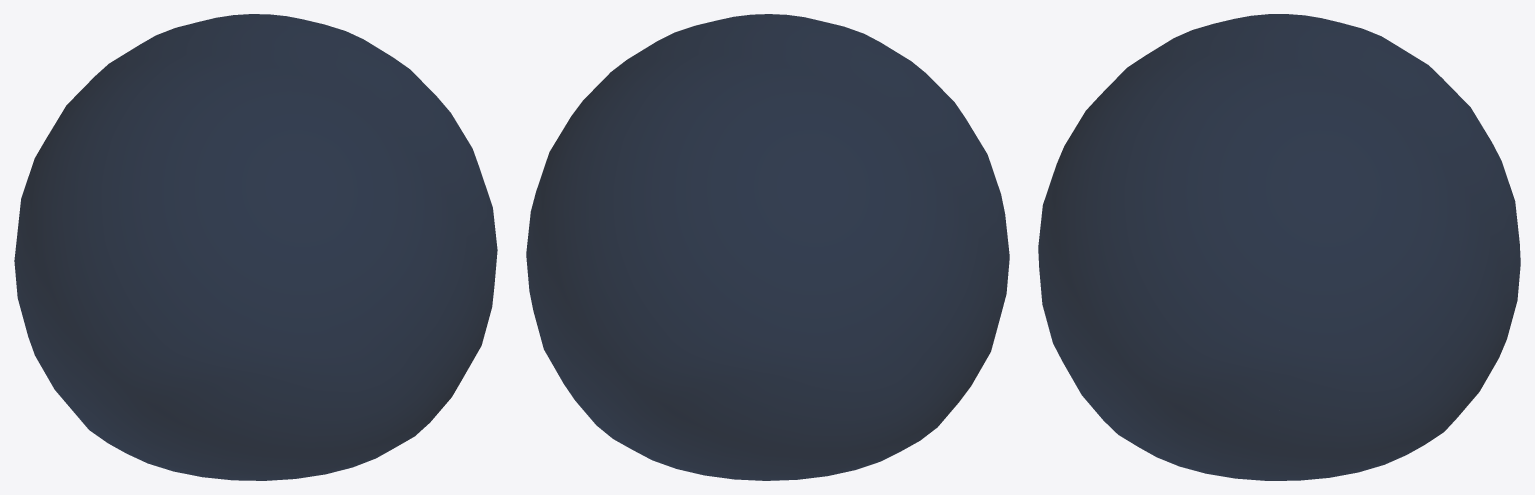
The model's file is SighReti_pivot.obj.
The picture shows the model from 3 angles, left to right: view 1: azimuth 30°, elevation 25°; view 2: azimuth 150°, elevation 25°; view 3: azimuth 270°, elevation 25°; orthographic projection.
Parts seen in each view (by area): view 1: SighReti_pivot; view 2: SighReti_pivot; view 3: SighReti_pivot.
Boxes of the visible parts, x1=… form: SighReti_pivot: x1=14, y1=14, x2=497, y2=480; SighReti_pivot: x1=526, y1=14, x2=1009, y2=480; SighReti_pivot: x1=1038, y1=14, x2=1520, y2=480.
Size of the model in its own units: 81.18 by 71.21 by 81.18.
